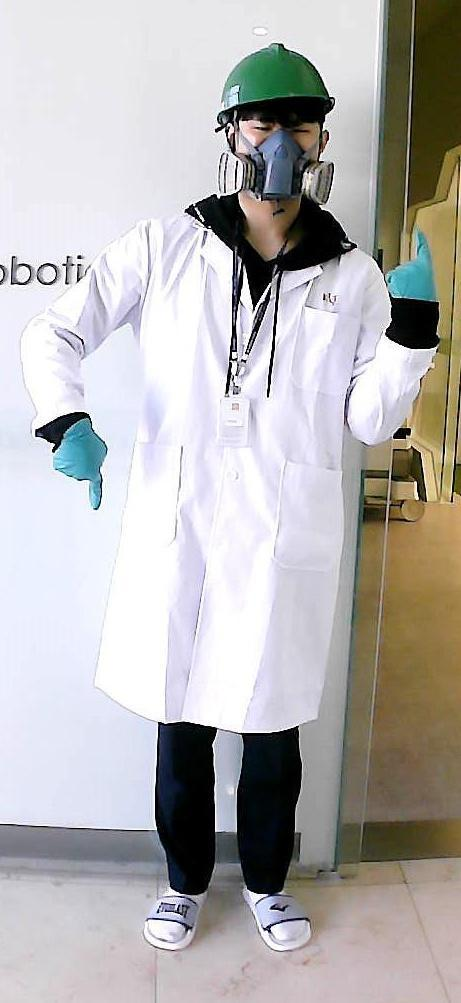lab_coat: (109, 244, 374, 707)
